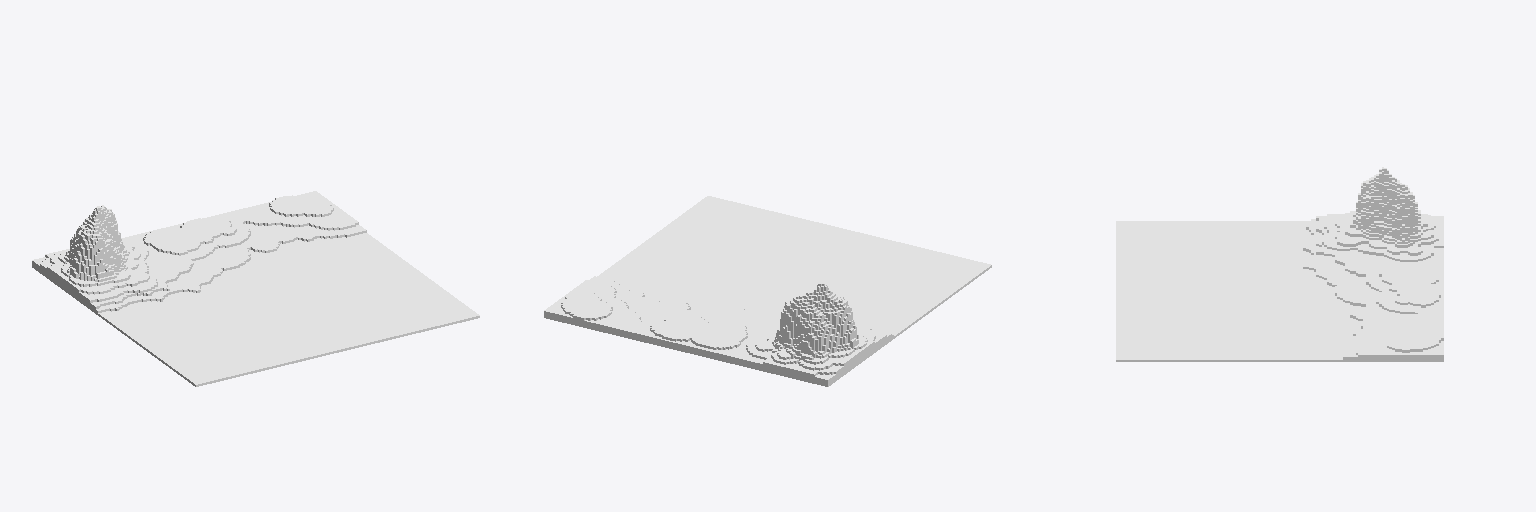
The model's file is FarmLandscape.obj.
3 renders of one model, left to right at view 1: azimuth 30°, elevation 25°; view 2: azimuth 150°, elevation 25°; view 3: azimuth 270°, elevation 25°, orthographic.
Bounding box in the file's own units: 126 × 31 × 126.